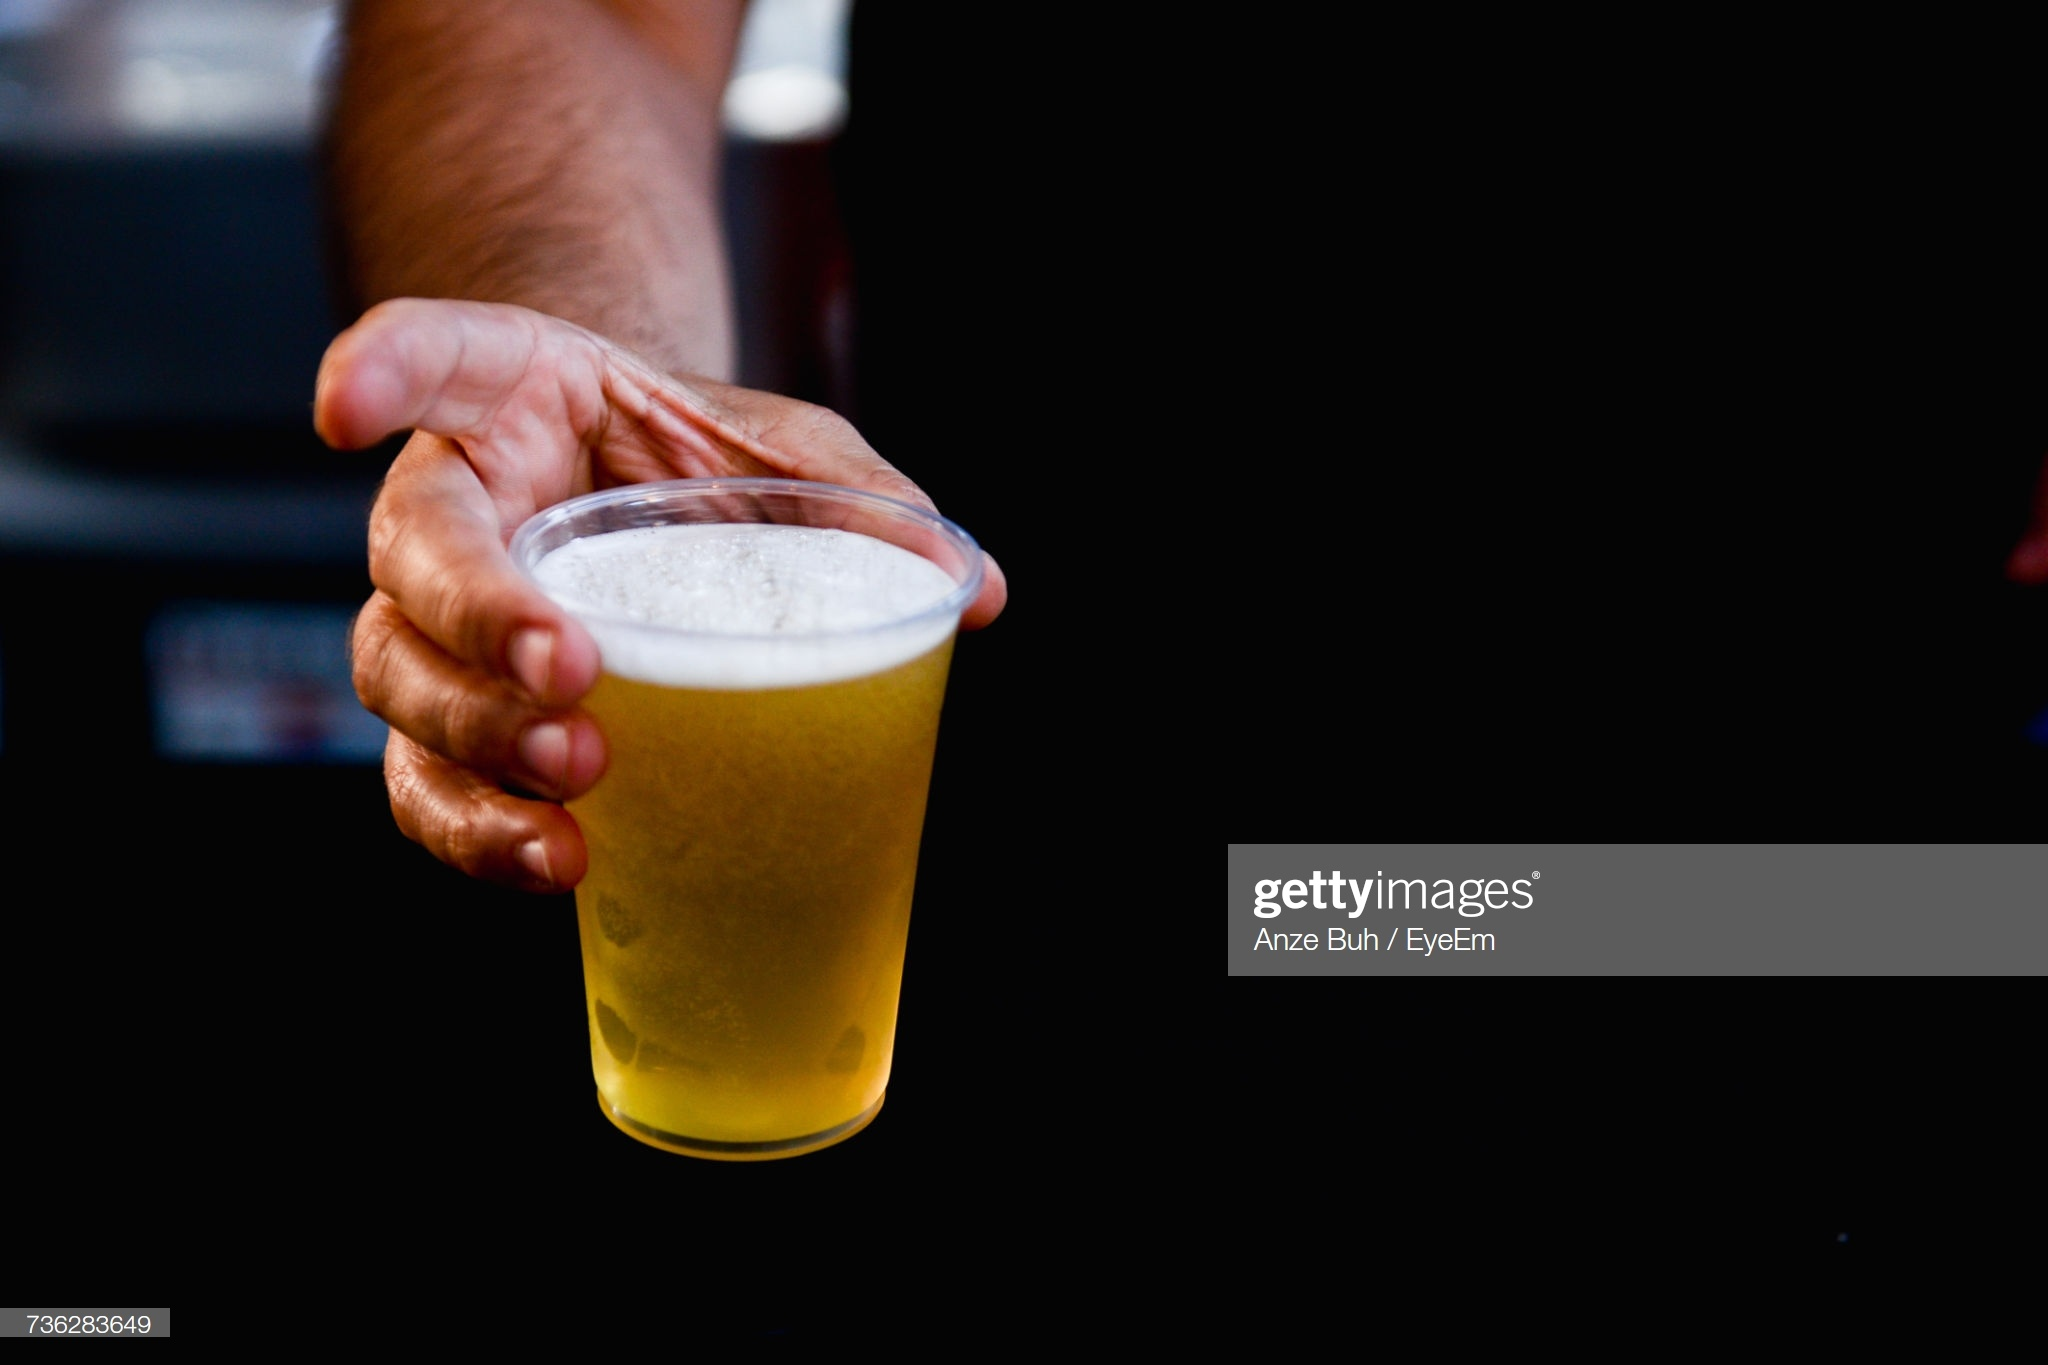glassBeer: (530, 468, 924, 1173)
